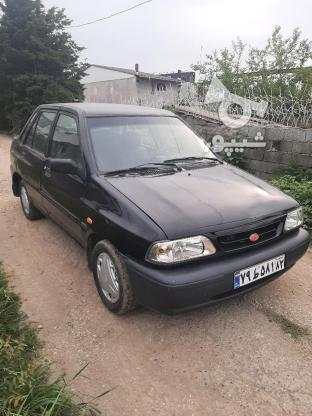car: (231, 253, 286, 290)
